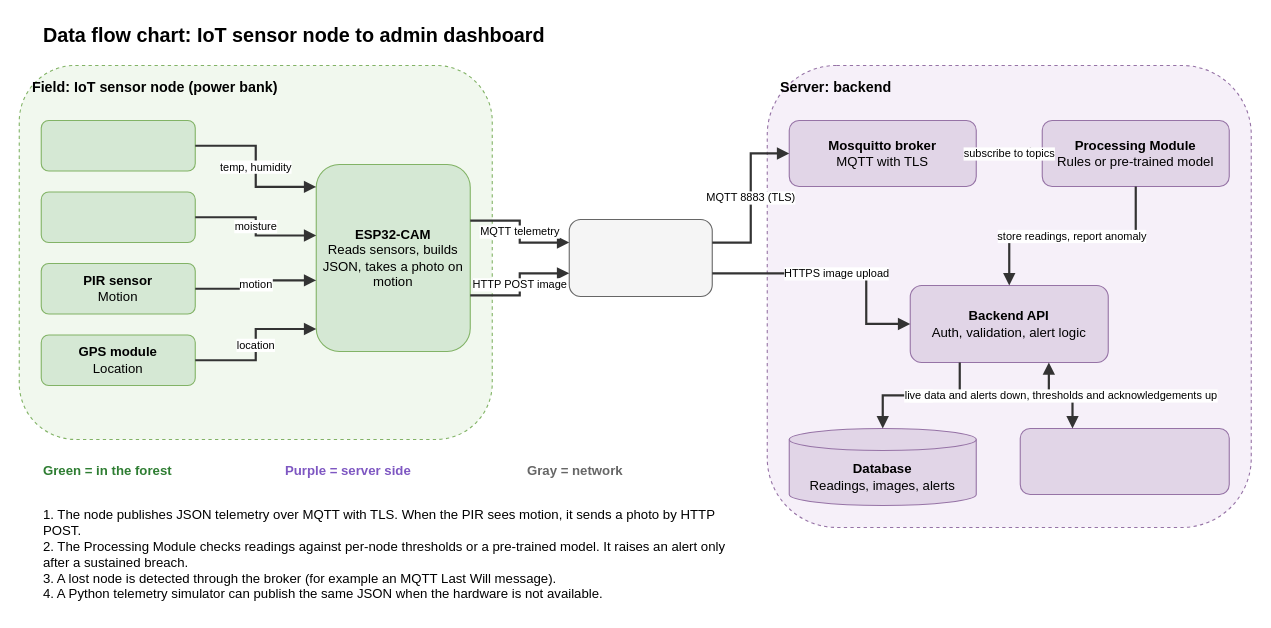
The diagram is 1271 pixels wide and 628 high, and some of its shapes have lost their labels. Here are the shapes that lost their labels. From the top down, the centre of each, then its label:
At [117,145]: "DHT22 Temp, humidity".
At [117,217]: "Soil sensor Soil moisture".
At [640,257]: "Wi-Fi router or hotspot Connectivity gateway".
At [1124,460]: "Admin web dashboard Live data, alerts".
